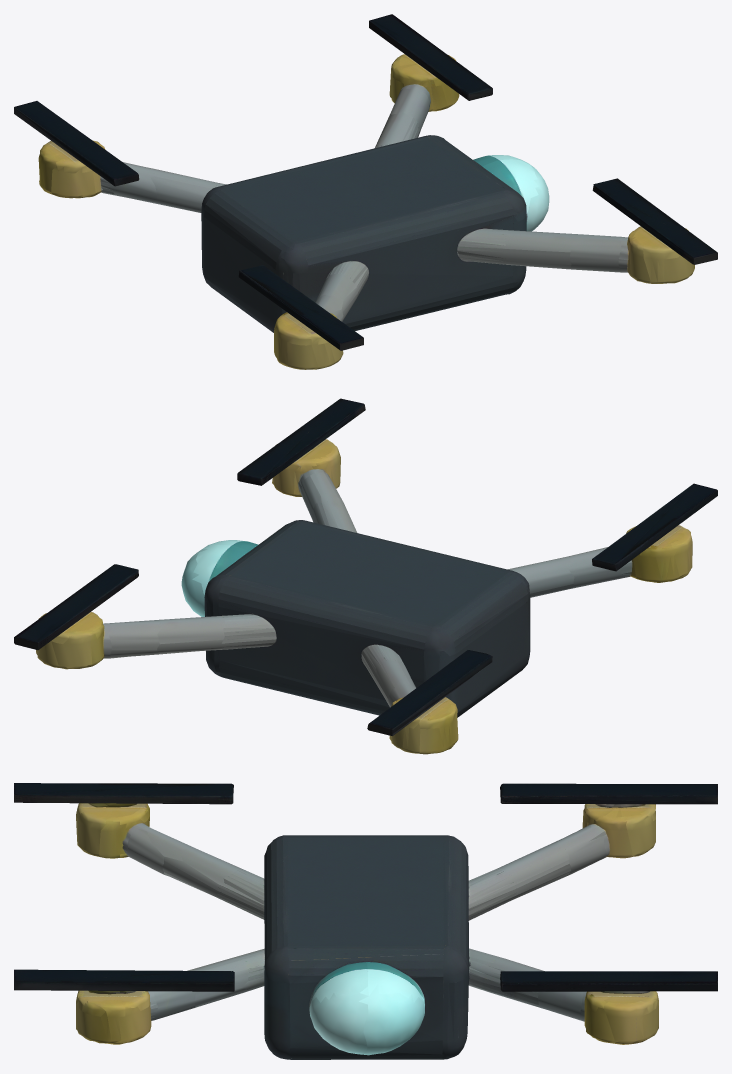
Rendered from distributed-array.glb.
The picture shows the model from 3 angles, top to bottom: view 1: azimuth 30°, elevation 25°; view 2: azimuth 150°, elevation 25°; view 3: azimuth 270°, elevation 25°; orthographic projection. The views are drawn at different scales.
Bounding box in the file's own units: 0.7305 × 0.1924 × 1.
Materials: 1 (1 with a texture image).
